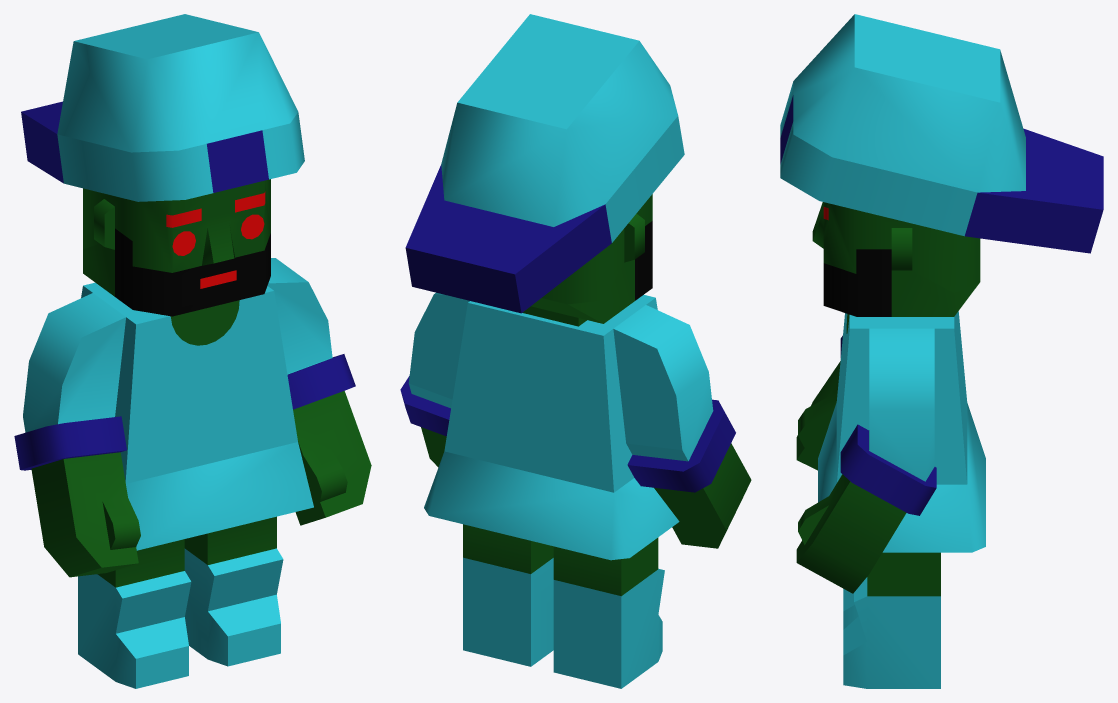
The model's file is Enemy2-1.fbx.
3 views of the same model, side by side, from view 1: azimuth 30°, elevation 25°; view 2: azimuth 150°, elevation 25°; view 3: azimuth 270°, elevation 25° (orthographic).
Parts seen in each view (by area): view 1: mergedBlocks; view 2: mergedBlocks; view 3: mergedBlocks.
Part boxes in pixels (x1,y1,x2,y2): mergedBlocks: (14, 14, 371, 688); mergedBlocks: (400, 14, 751, 688); mergedBlocks: (780, 14, 1103, 688).
Size of the model in its own units: 5.4 by 10.32 by 4.95.
